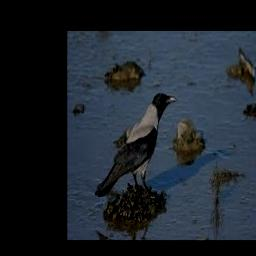Crow: (95, 92, 178, 198)
